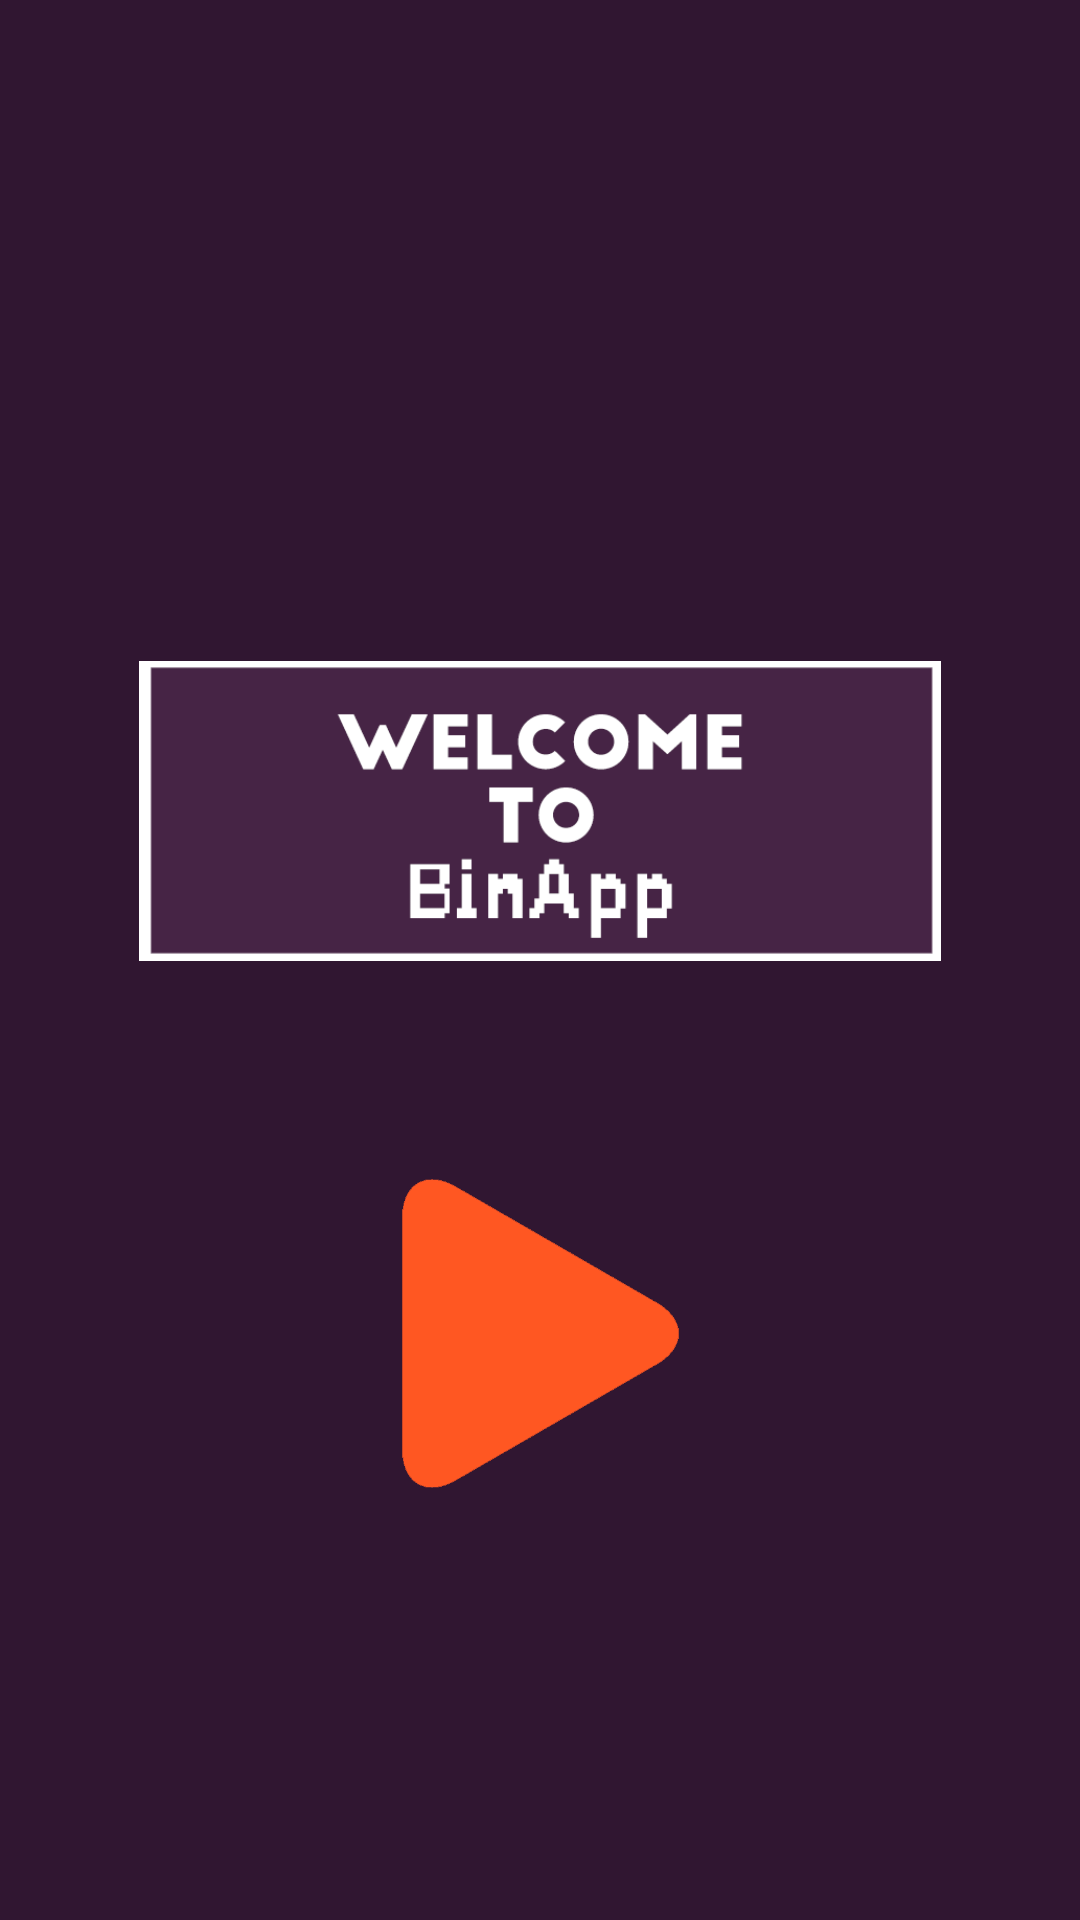

Icon bounding boxes for this 1080px x 1920px phone screenshot, format (x1, y1, x2, y2):
play: (402, 1179, 679, 1488)
